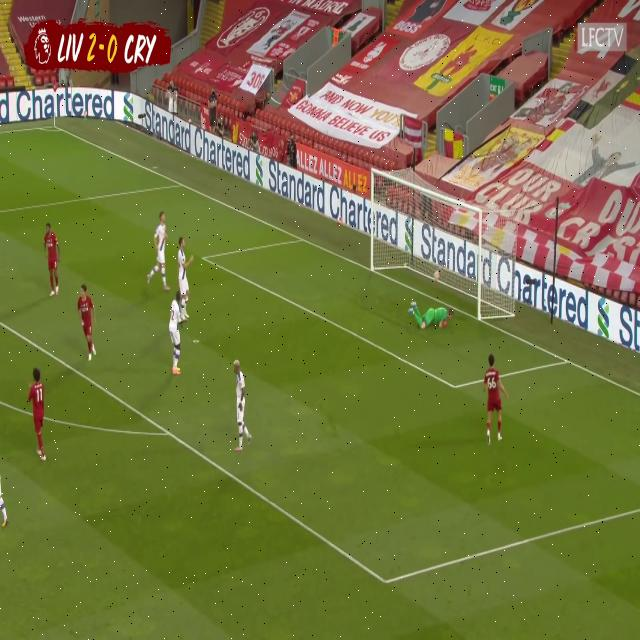Ball: (428, 263, 443, 286)
GoalKeeper: (402, 293, 458, 338)
TEAM 1: (484, 349, 511, 452), (24, 368, 51, 466), (37, 218, 67, 302), (77, 282, 98, 358)
TEAM 2: (226, 355, 260, 462), (175, 232, 196, 327), (147, 208, 170, 290), (0, 476, 20, 537), (171, 292, 183, 383)
